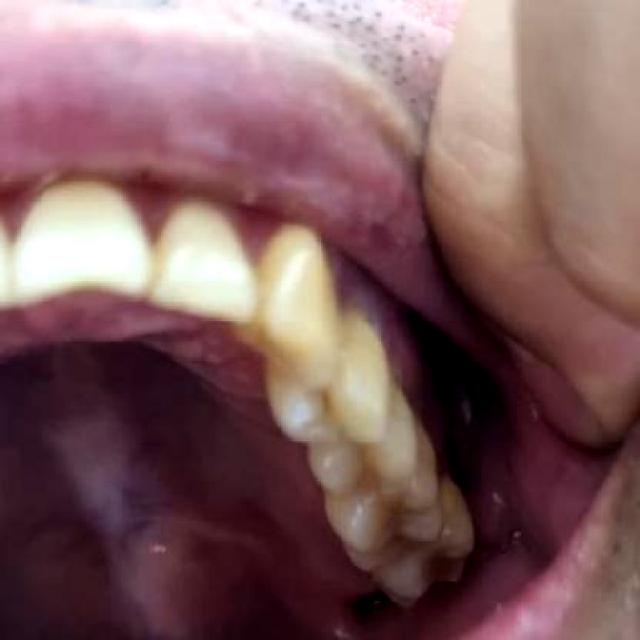Plaque: (316, 393, 341, 426)
